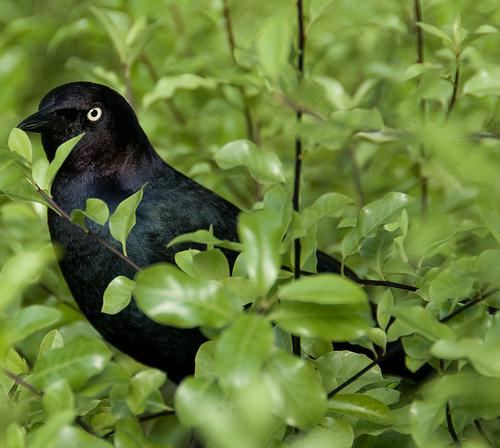009.Brewer_Blackbird: (16, 80, 429, 382)
